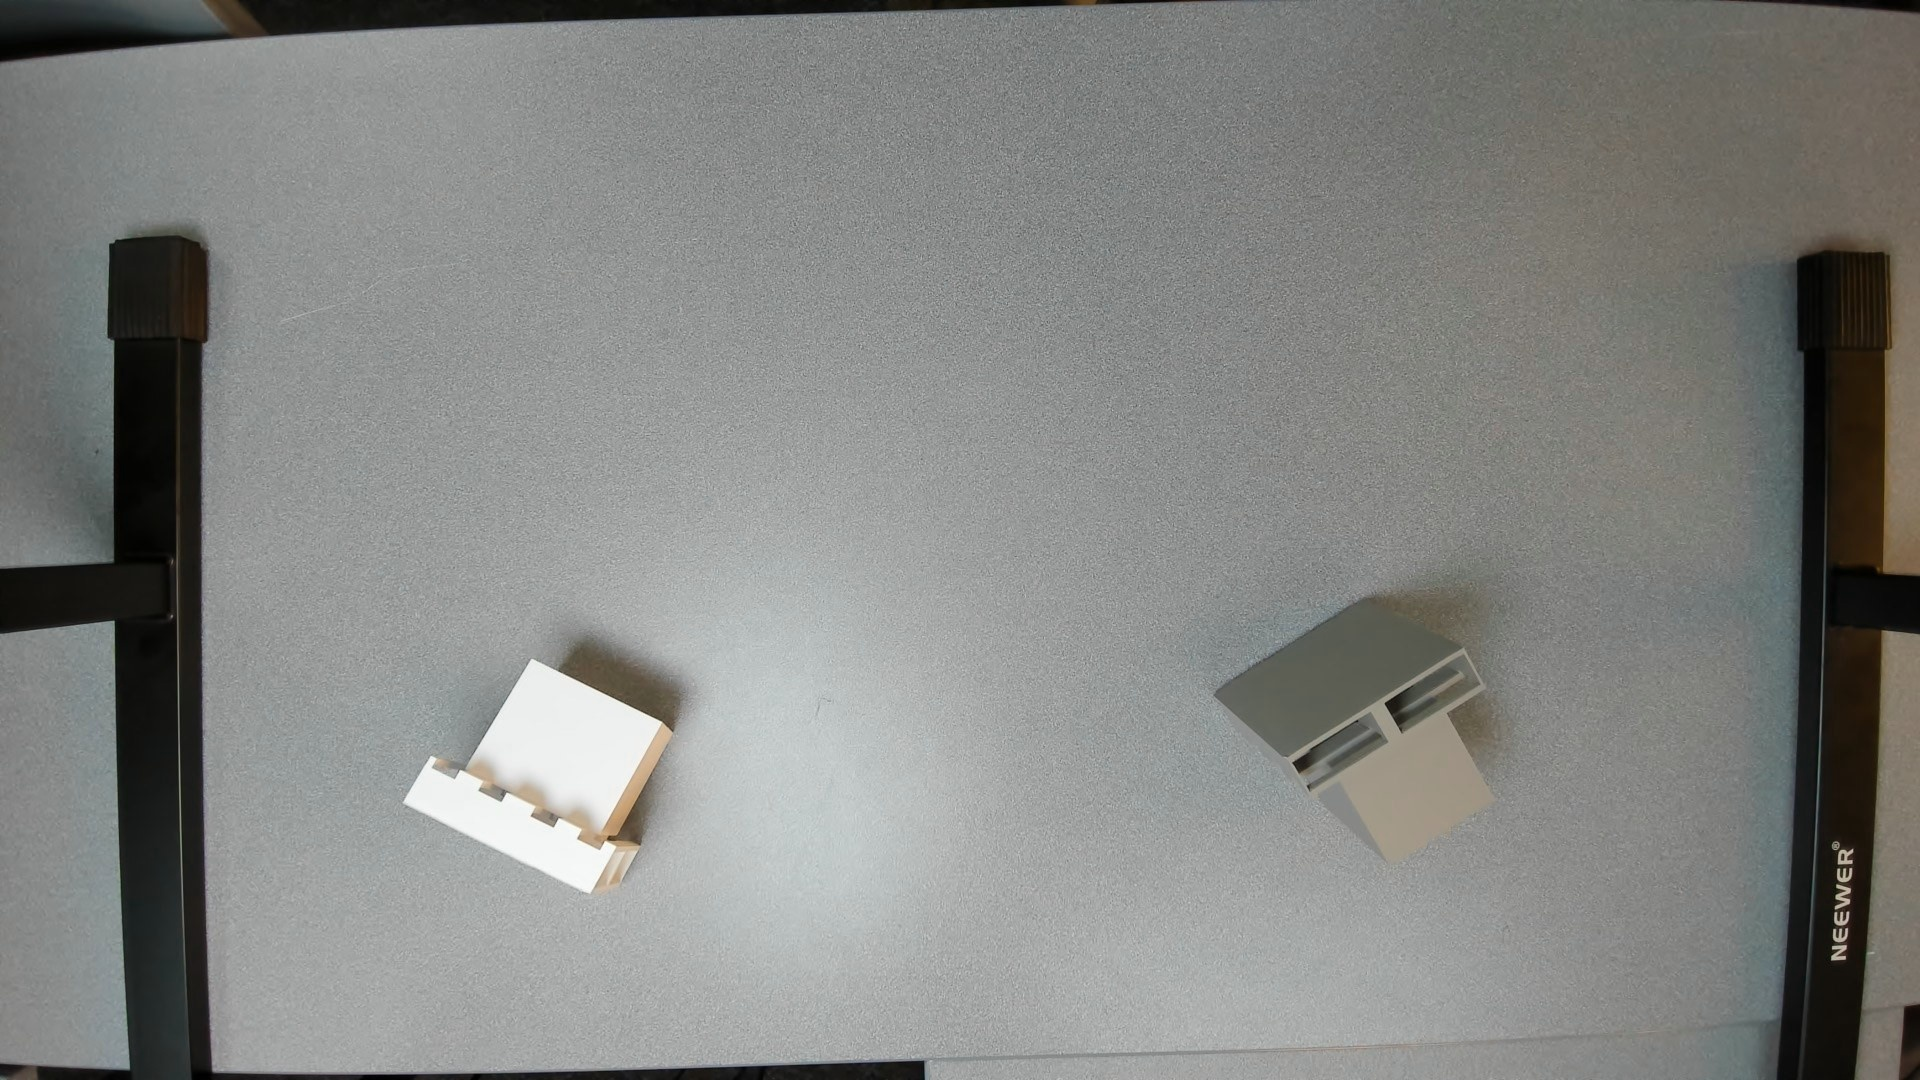grey pallet: (1203, 585, 1510, 887)
white pallet: (396, 645, 680, 901)
